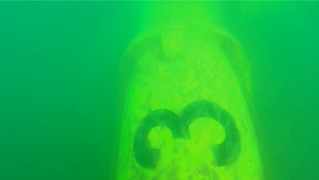3: (133, 98, 241, 169)
pipe: (116, 1, 264, 179)
